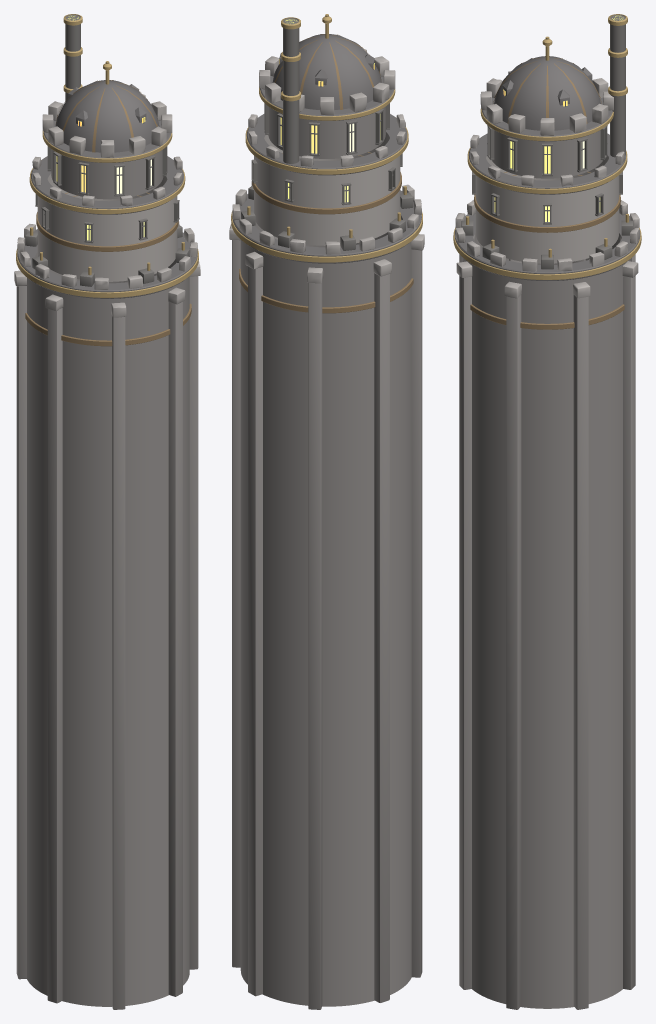
Rendered from SM_Area2_Tower_Far.glb.
The picture shows the model from 3 angles, left to right: view 1: azimuth 30°, elevation 25°; view 2: azimuth 150°, elevation 25°; view 3: azimuth 270°, elevation 25°; orthographic projection. The views are drawn at different scales.
Visible parts, largest first — view 1: SM_Area2_Tower_Far; view 2: SM_Area2_Tower_Far; view 3: SM_Area2_Tower_Far.
Part boxes in pixels (x1=…): SM_Area2_Tower_Far: x1=14, y1=14, x2=200, y2=1009; SM_Area2_Tower_Far: x1=229, y1=14, x2=424, y2=1009; SM_Area2_Tower_Far: x1=453, y1=14, x2=641, y2=1009.
Size of the model in its own units: 8 by 44.85 by 8.
